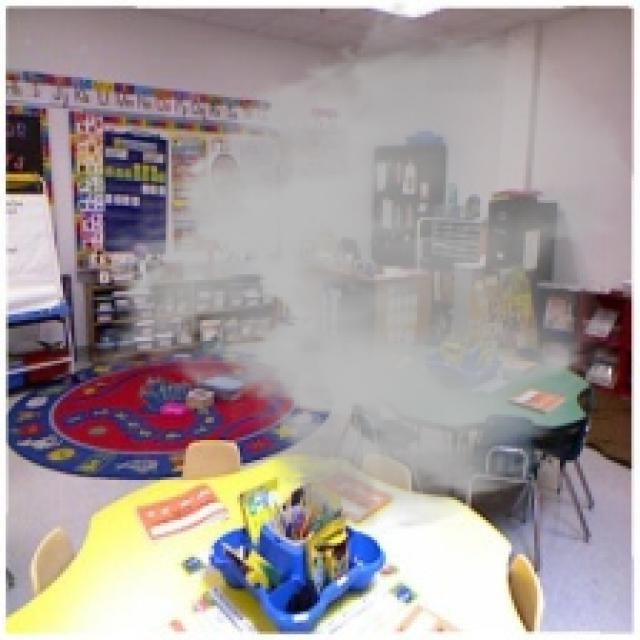Smoke: (85, 0, 638, 535)
